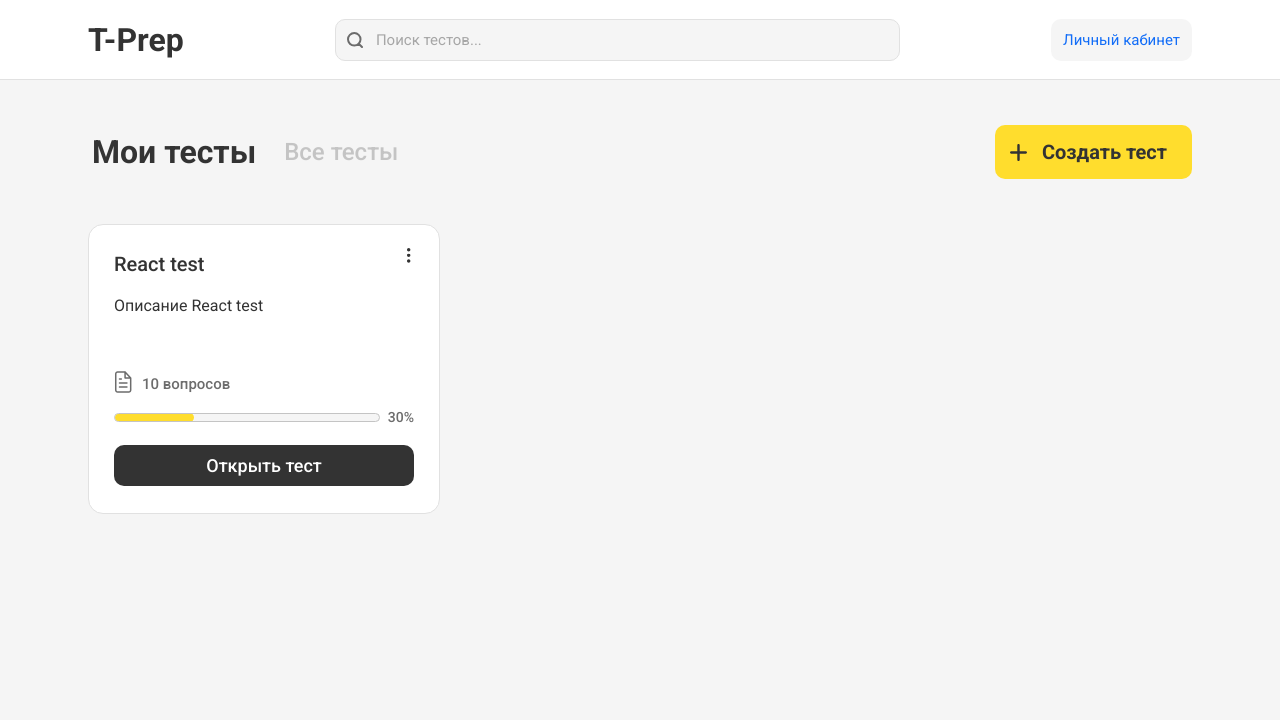
Test: MainPage › cards › shows error toast when delete fails
Expected: the heading "React test" is shown, [114,252,204,276]
What coordinates should you click on to do the following:
click the button named "Menu"
I would click on:
 (409, 255)
Its box is [394,240,424,270].
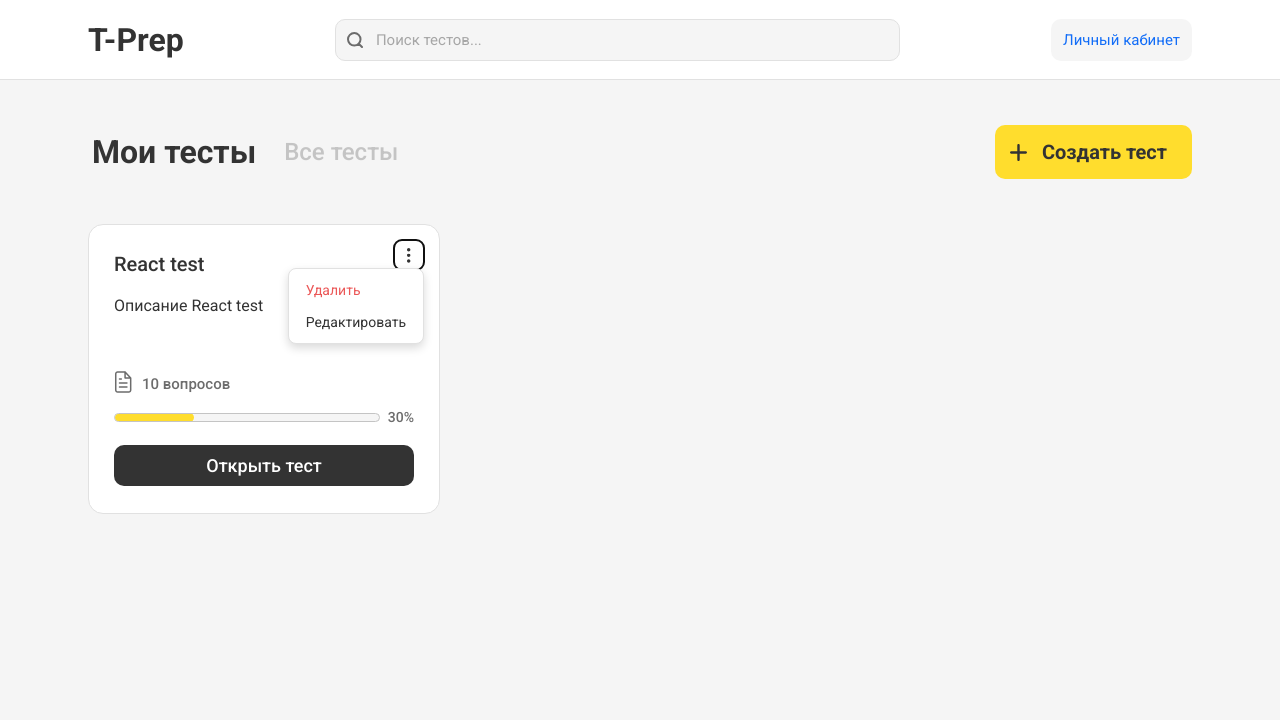
What coordinates should you click on to do the following:
click the button "Удалить"
I would click on:
 (356, 290)
Its box is [294,274,418,306].
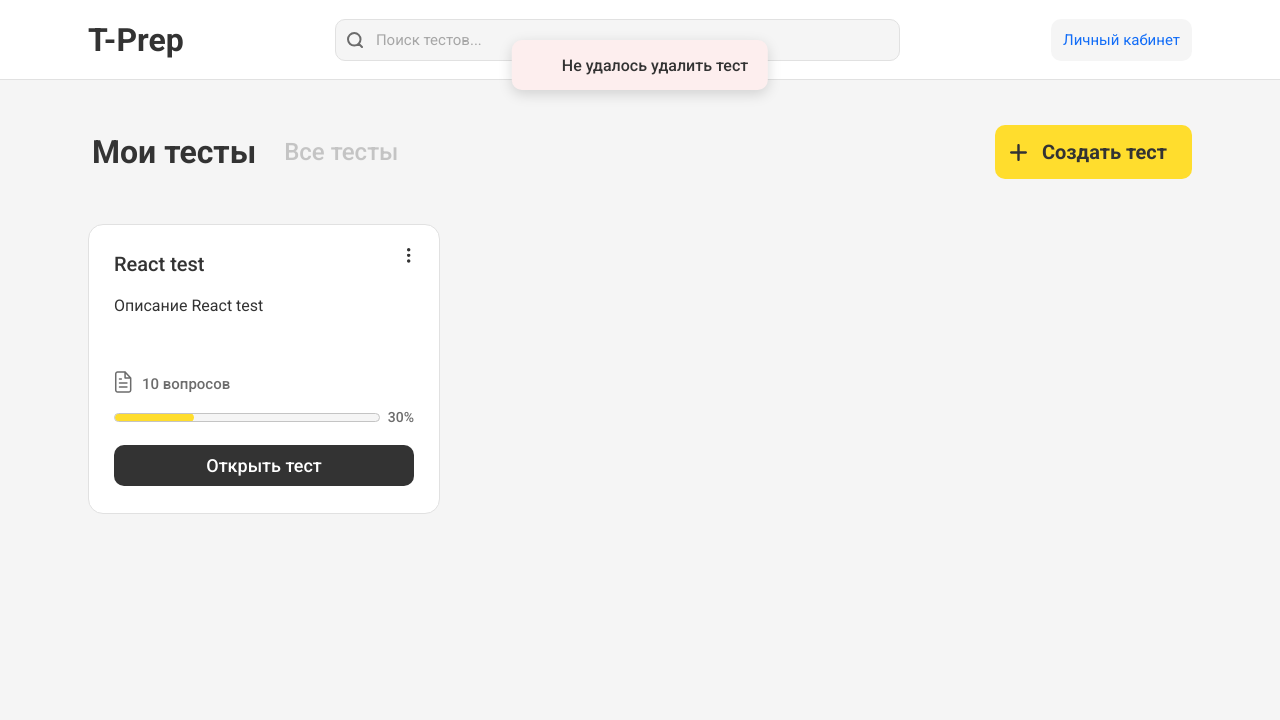
Expected: the heading "React test" is shown, [114,252,204,276]
Now the text "Не удалось удалить тест" is shown, box [562,56,748,74]
